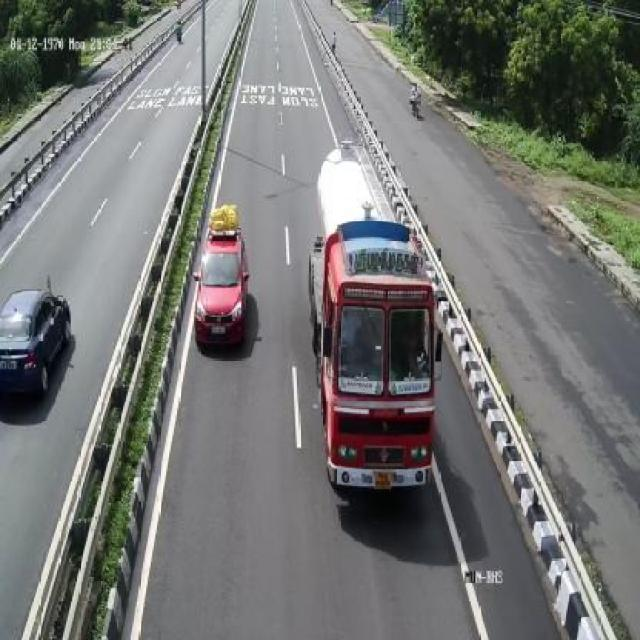car: (195, 200, 252, 352), (1, 286, 74, 396)
